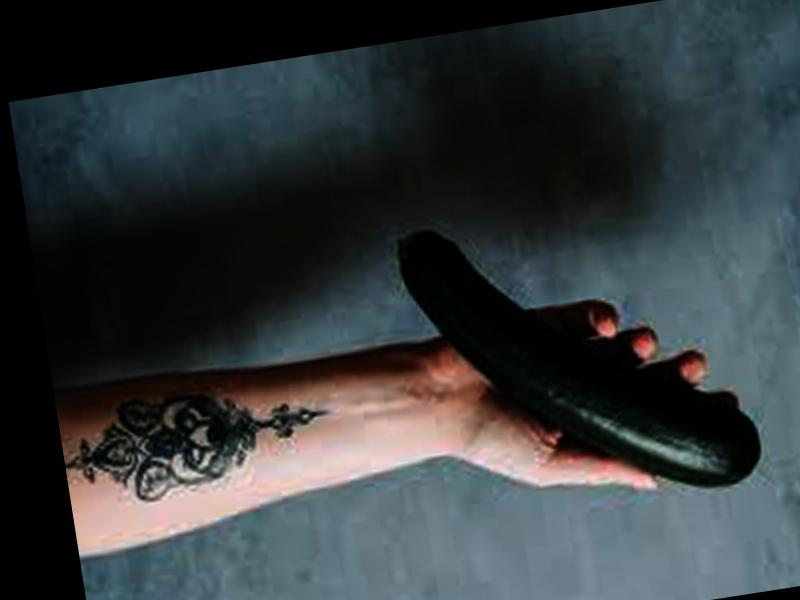Cucumber: (398, 186, 765, 528)
